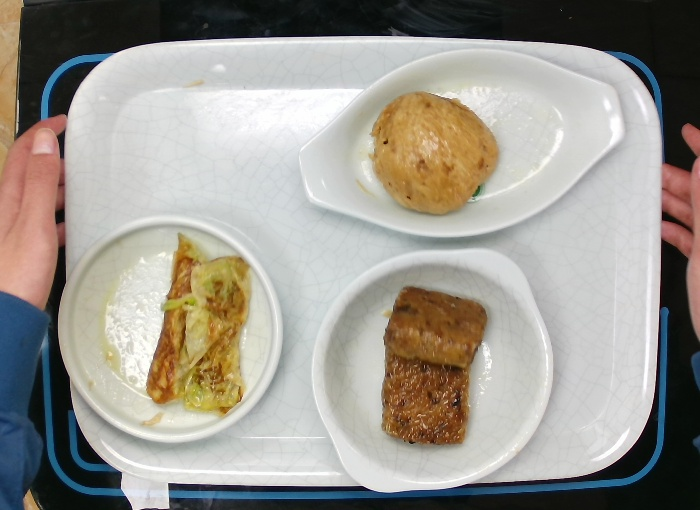JYsf-Shuang_Er_Wan: (304, 244, 557, 498)
JYsf-Xiao_Yuan_Pan: (53, 213, 284, 446)
JYsf-Yu_Pan: (293, 42, 629, 242)
